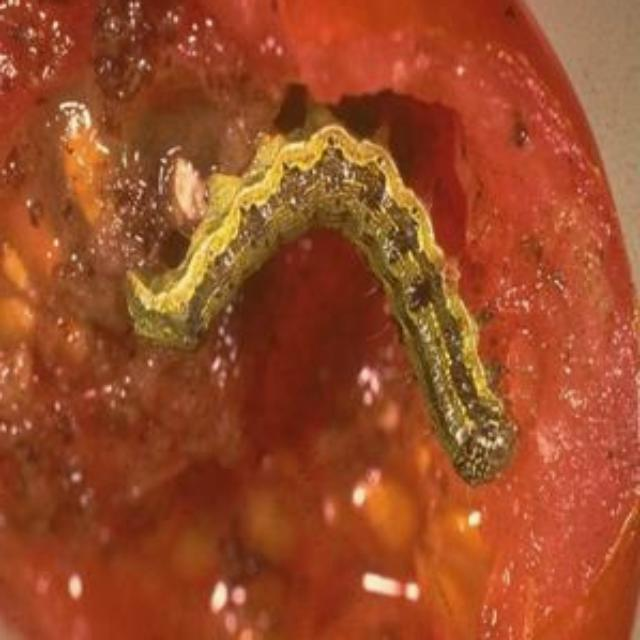Cotton bollworm: (99, 104, 542, 524)
